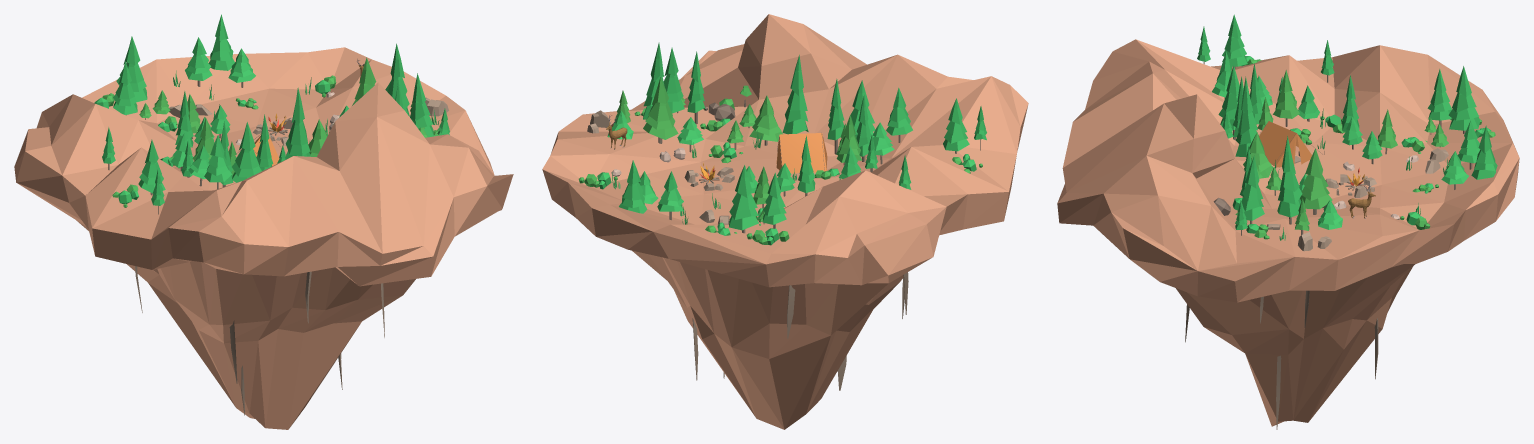
The picture shows the model from 3 angles, left to right: view 1: azimuth 30°, elevation 25°; view 2: azimuth 150°, elevation 25°; view 3: azimuth 270°, elevation 25°; orthographic projection.
Visible parts, largest first — view 1: Plane_2; view 2: Plane_2, House; view 3: Plane_2, House.
Part boxes in pixels (<box>): Plane_2: <box>14,47,513,429</box>; Plane_2: <box>542,14,1028,429</box>; House: <box>776,133,827,173</box>; Plane_2: <box>1057,39,1519,426</box>; House: <box>1259,121,1311,167</box>.
Bounding box in the file's own units: 6594 × 5665 × 6639.
